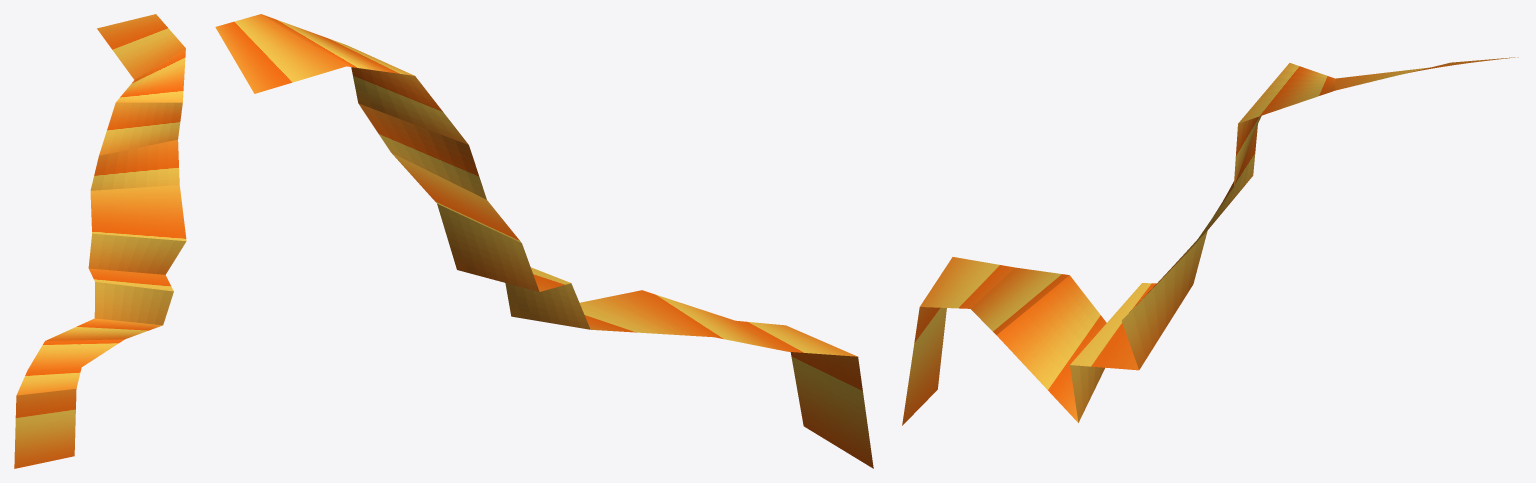
Rendered from Lave 1.fbx.
The picture shows the model from 3 angles, left to right: view 1: azimuth 30°, elevation 25°; view 2: azimuth 150°, elevation 25°; view 3: azimuth 270°, elevation 25°; orthographic projection. The views are drawn at different scales.
Visible parts, largest first — view 1: ITM_Lave; view 2: ITM_Lave; view 3: ITM_Lave.
Boxes of the visible parts, x1=… form: ITM_Lave: x1=14, y1=14, x2=186, y2=468; ITM_Lave: x1=215, y1=14, x2=873, y2=468; ITM_Lave: x1=902, y1=57, x2=1518, y2=425.
Bounding box in the file's own units: 7.88 × 8.21 × 7.81.
